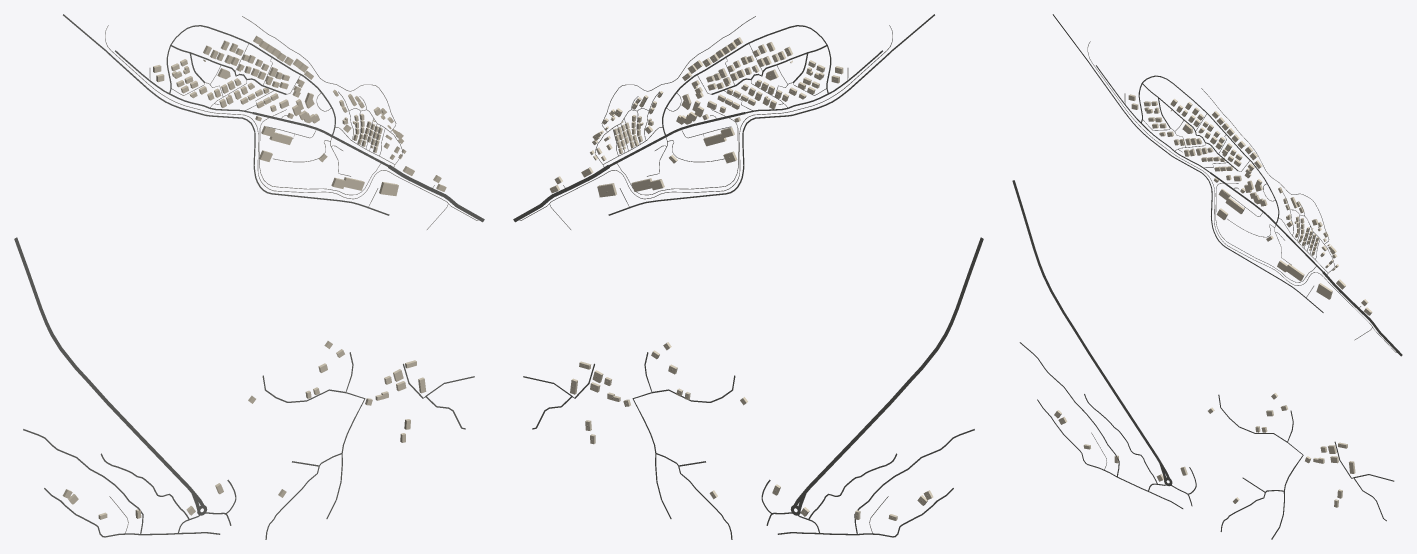
File: historic-palestine-09_24_3512_3187.glb
The picture shows the model from 3 angles, left to right: view 1: azimuth 30°, elevation 25°; view 2: azimuth 150°, elevation 25°; view 3: azimuth 330°, elevation 25°; orthographic projection. The views are drawn at different scales.
Parts seen in each view (by area): view 1: Road شارع الطيرة, Road .043, Road Military Road.001; view 2: Road شارع الطيرة, Road .043, Road Military Road.001; view 3: Road شارع الطيرة, Road .043.
Boxes of the visible parts, <box> form: Road شارع الطيرة: <box>14,237,193,492</box>; Road .043: <box>63,14,389,215</box>; Road Military Road.001: <box>105,25,478,220</box>; Road شارع الطيرة: <box>804,237,983,492</box>; Road .043: <box>608,14,934,215</box>; Road Military Road.001: <box>519,25,892,220</box>; Road شارع الطيرة: <box>1012,180,1161,463</box>; Road .043: <box>1052,14,1323,312</box>.
Bounding box in the file's own units: 1170 × 1367 × 9.09.
